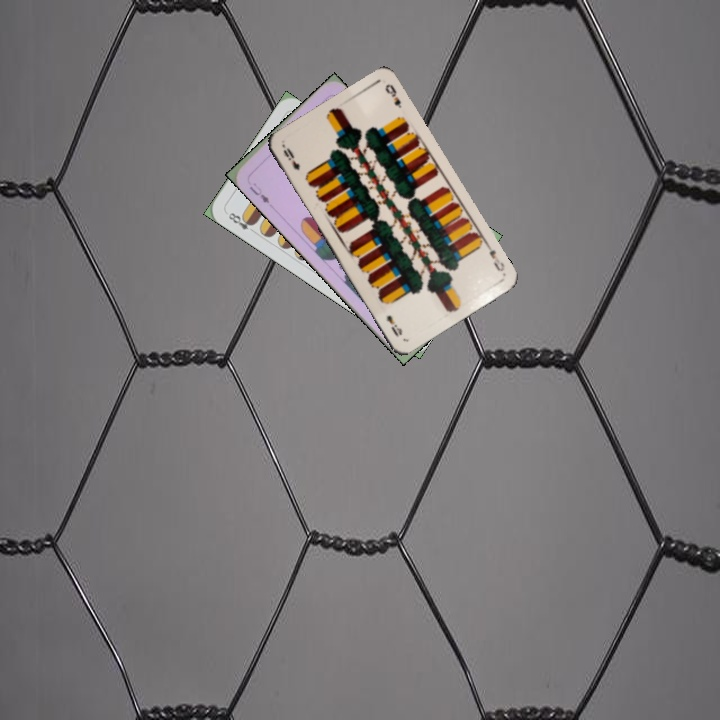E8: (222, 208, 258, 236)
E9: (482, 239, 508, 274), (279, 143, 303, 173)
EU: (245, 179, 272, 206)
